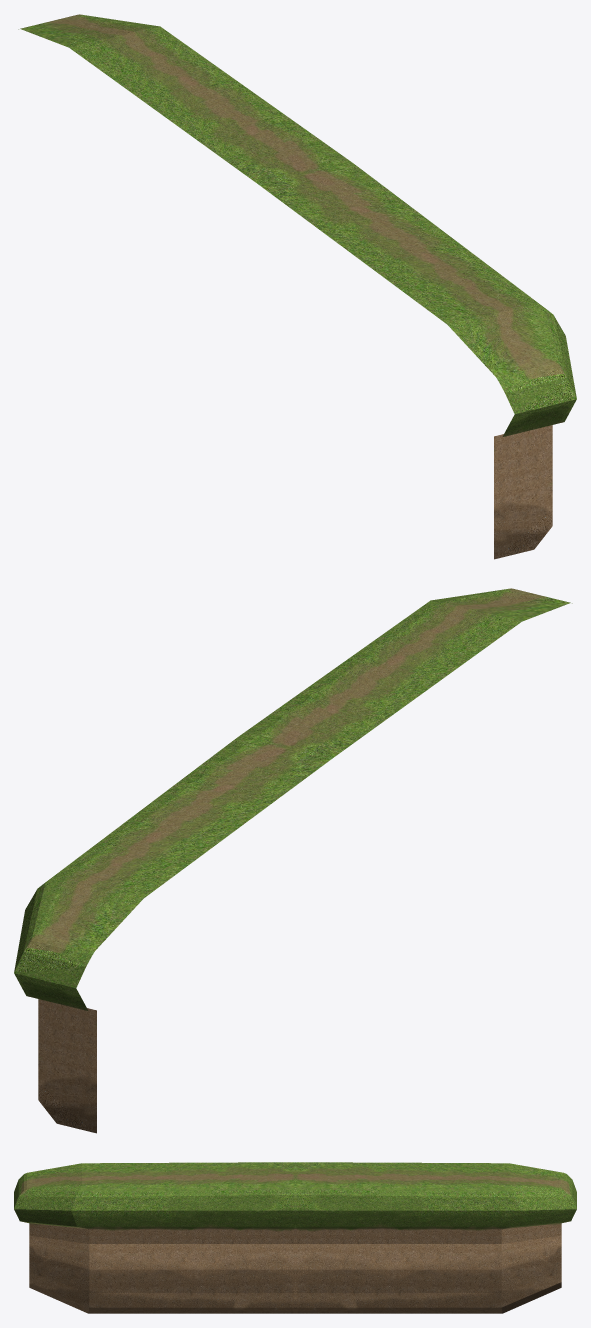
The model's file is platform.glb.
The picture shows the model from 3 angles, top to bottom: view 1: azimuth 30°, elevation 25°; view 2: azimuth 150°, elevation 25°; view 3: azimuth 270°, elevation 25°; orthographic projection. The views are drawn at different scales.
Visible parts, largest first — view 1: model; view 2: model; view 3: model.
Part boxes in pixels (x1=…): model: x1=18, y1=14, x2=576, y2=559; model: x1=14, y1=588, x2=572, y2=1133; model: x1=14, y1=1162, x2=576, y2=1313.
Bounding box in the file's own units: 1.39 × 2.86 × 11.02.
1 material, 1 textured.
